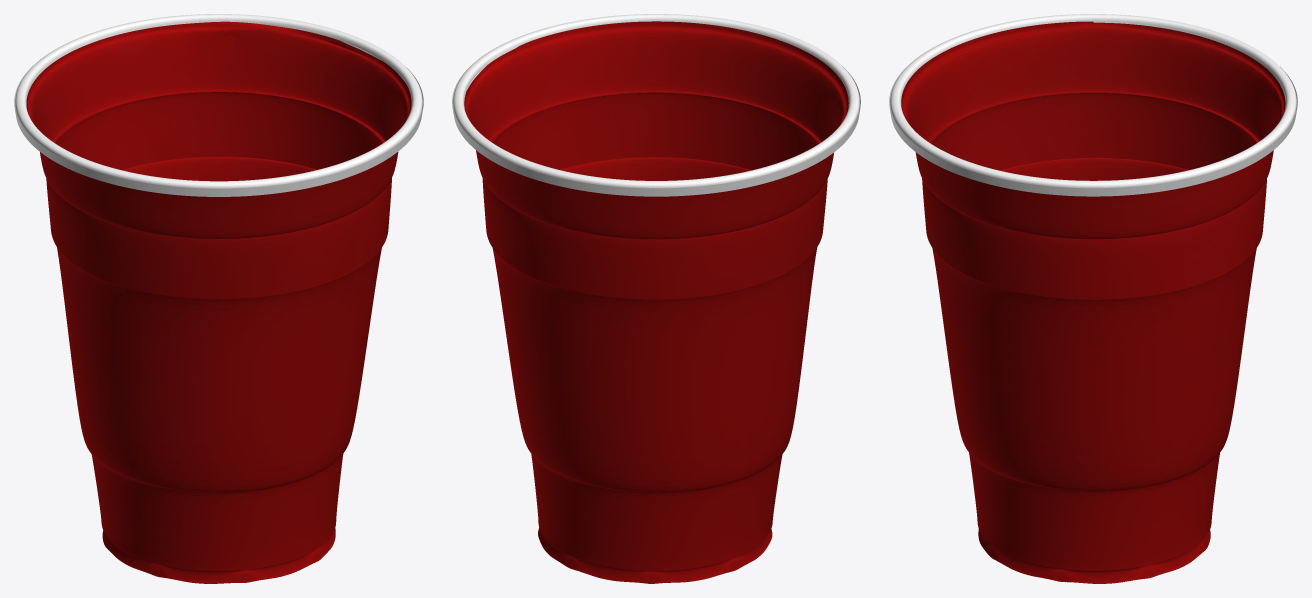
Rendered from beerCup.fbx.
3 renders of one model, left to right at view 1: azimuth 30°, elevation 25°; view 2: azimuth 150°, elevation 25°; view 3: azimuth 270°, elevation 25°, orthographic.
Visible parts, largest first — view 1: BeerCup; view 2: BeerCup; view 3: BeerCup.
Part boxes in pixels (bbox=[...]): BeerCup: bbox=[14, 14, 423, 583]; BeerCup: bbox=[452, 14, 860, 583]; BeerCup: bbox=[889, 14, 1297, 583].
Size of the model in its own units: 39.74 by 46.85 by 39.74.
